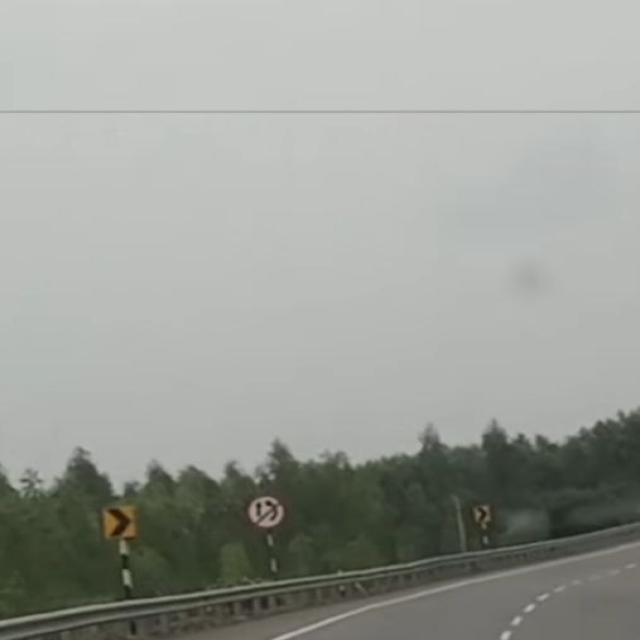No_overtaking: (250, 494, 285, 530)
chevron_right: (104, 508, 138, 542), (472, 505, 490, 528)
